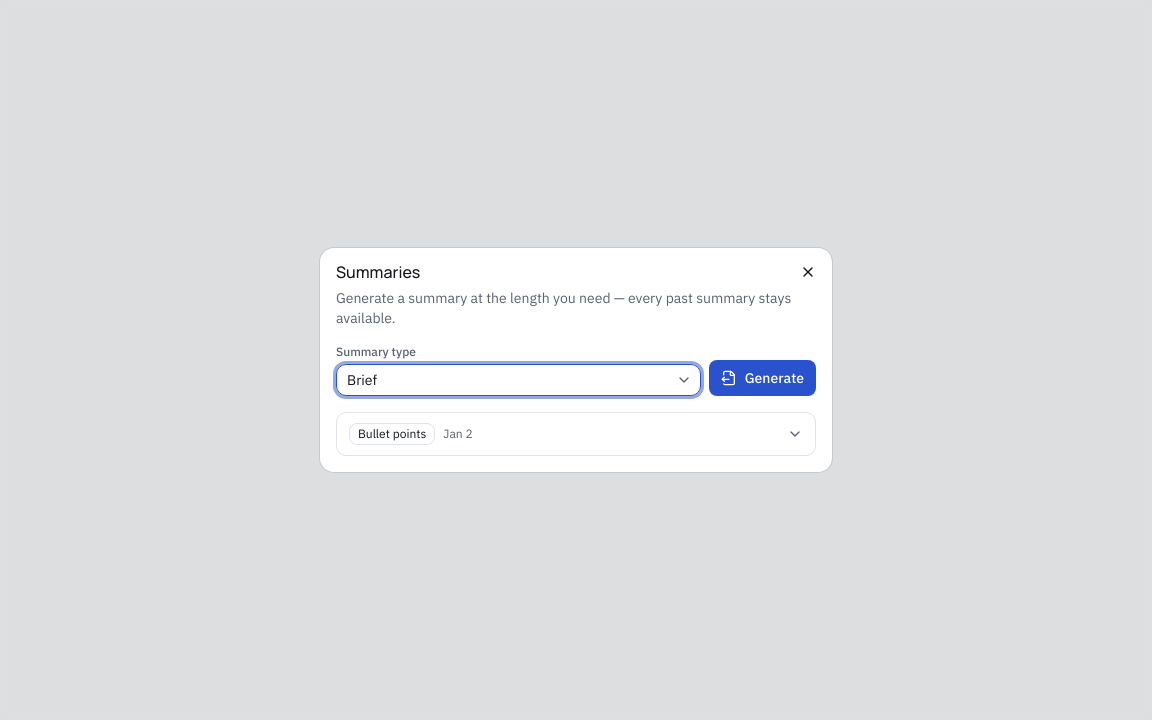
Test: SummaryDialog — FR-SUM-001, FR-SUM-002 › renders bullet_points content as a real list, not literal dashes
Click the button with aria-label "expand bullet points summary" at point(392, 434), box left=337, top=413, right=815, bottom=455
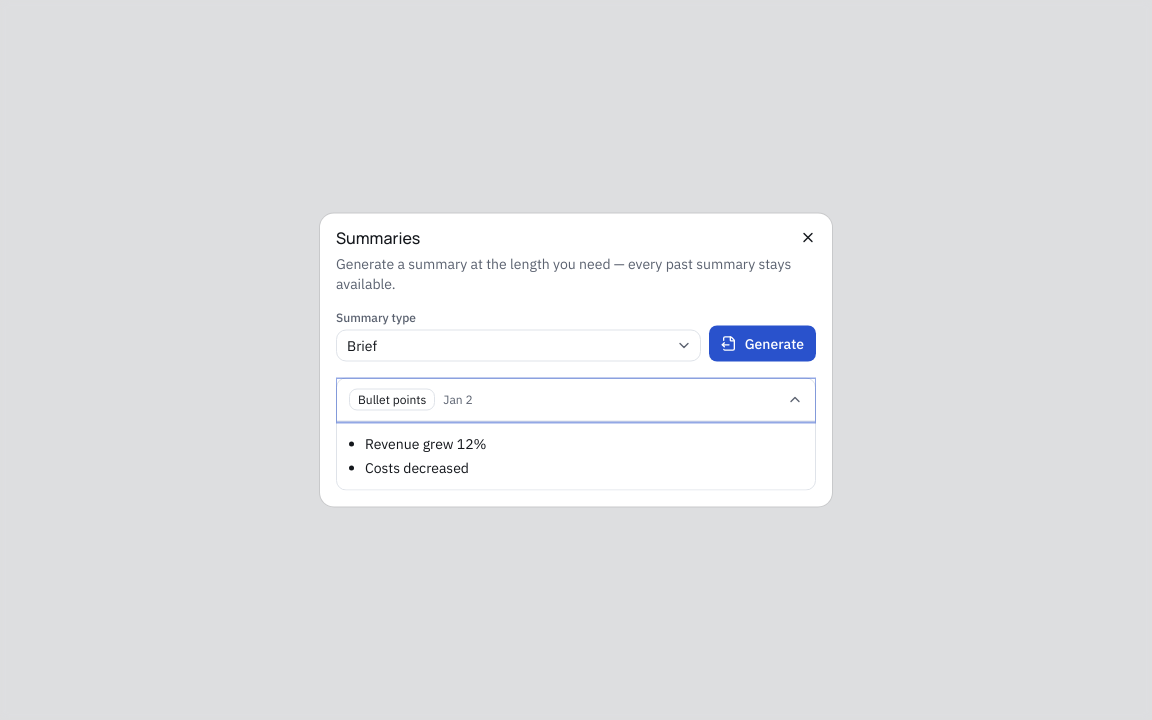
expect the list item "Revenue grew 12%" is shown: met, box left=365, top=434, right=487, bottom=452
